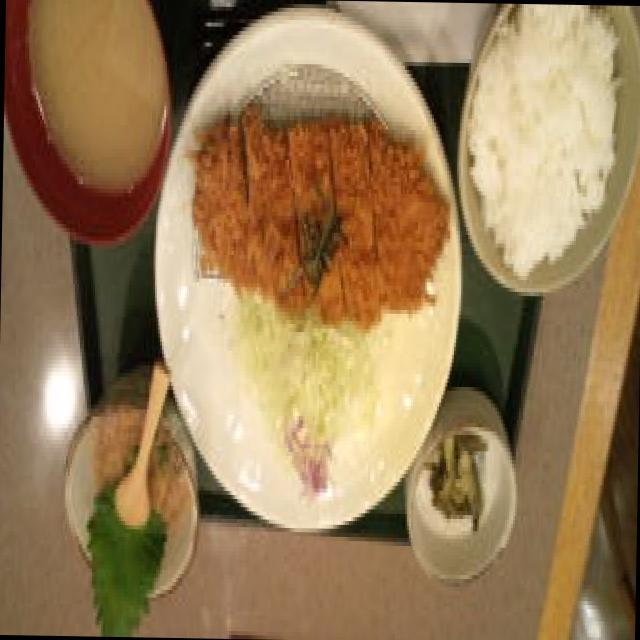Rice: (462, 2, 624, 284)
